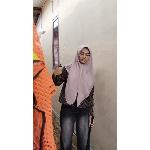Pedang: (51, 23, 75, 82)
